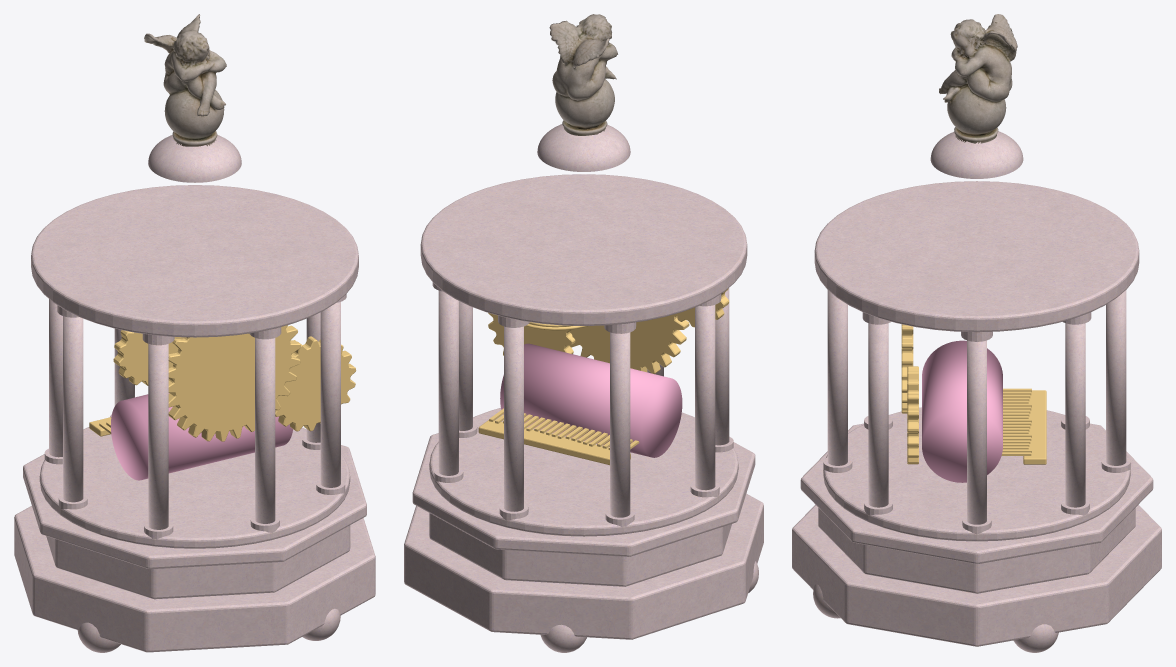
Rendered from k2-automat.glb.
3 renders of one model, left to right at view 1: azimuth 30°, elevation 25°; view 2: azimuth 150°, elevation 25°; view 3: azimuth 270°, elevation 25°, orthographic.
Visible parts, largest first — view 1: gehaeuse, sockel, zahnrad1, putto, walze, zahnrad2, kuppel, zahnrad3; view 2: gehaeuse, sockel, walze, putto, zahnrad1, kuppel, kamm, zahnrad2; view 3: gehaeuse, sockel, walze, putto, kuppel, kamm, zahnrad2, zahnrad1.
Boxes of the visible parts, <box> form: gehaeuse: <box>31,185,358,548</box>; sockel: <box>14,445,375,652</box>; zahnrad1: <box>168,325,300,441</box>; putto: <box>144,14,226,146</box>; walze: <box>110,393,293,480</box>; zahnrad2: <box>275,336,356,431</box>; kuppel: <box>148,135,241,182</box>; zahnrad3: <box>113,330,183,385</box>; gehaeuse: <box>420,174,747,536</box>; sockel: <box>404,433,763,652</box>; walze: <box>500,343,682,457</box>; putto: <box>549,14,617,135</box>; zahnrad1: <box>569,313,689,373</box>; kuppel: <box>537,124,630,171</box>; kamm: <box>478,408,639,465</box>; zahnrad2: <box>488,313,575,355</box>; gehaeuse: <box>814,181,1139,541</box>; sockel: <box>792,423,1161,652</box>; walze: <box>922,340,1002,482</box>; putto: <box>939,14,1017,143</box>; kuppel: <box>930,131,1023,178</box>; kamm: <box>1001,388,1046,464</box>; zahnrad2: <box>907,366,918,464</box>; zahnrad1: <box>901,324,913,413</box>.
Size of the model in its own units: 1.27 by 2.16 by 1.27.
4 materials, 2 textured.
